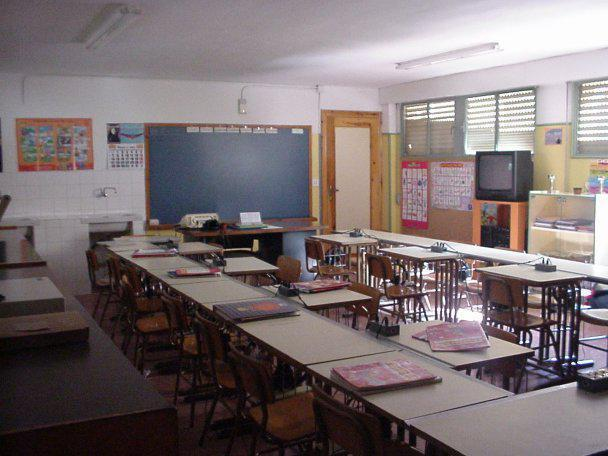Puerta: (325, 116, 384, 228)
